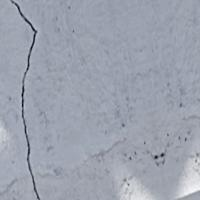crack: (3, 0, 50, 199)
